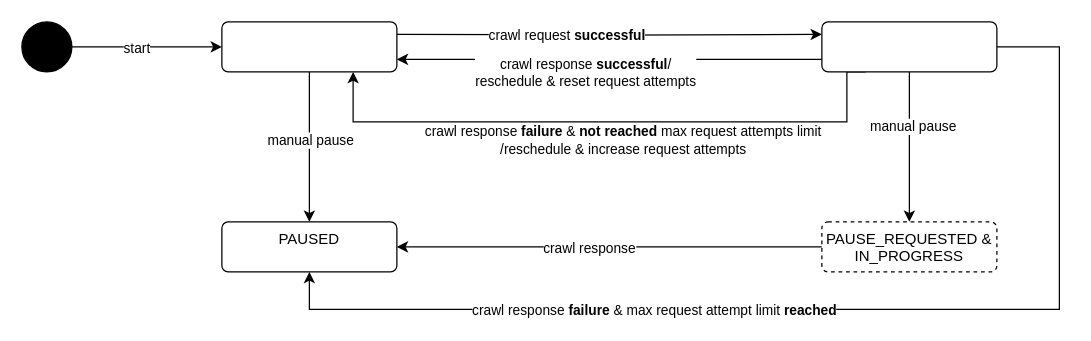
Some shapes in this 1091 by 341 pixel diagram are drawn without their labels. Each missing label, with the box of its shape:
IN_PROGRESS: (821, 21, 997, 72)
SCHEDULED: (221, 21, 397, 72)
